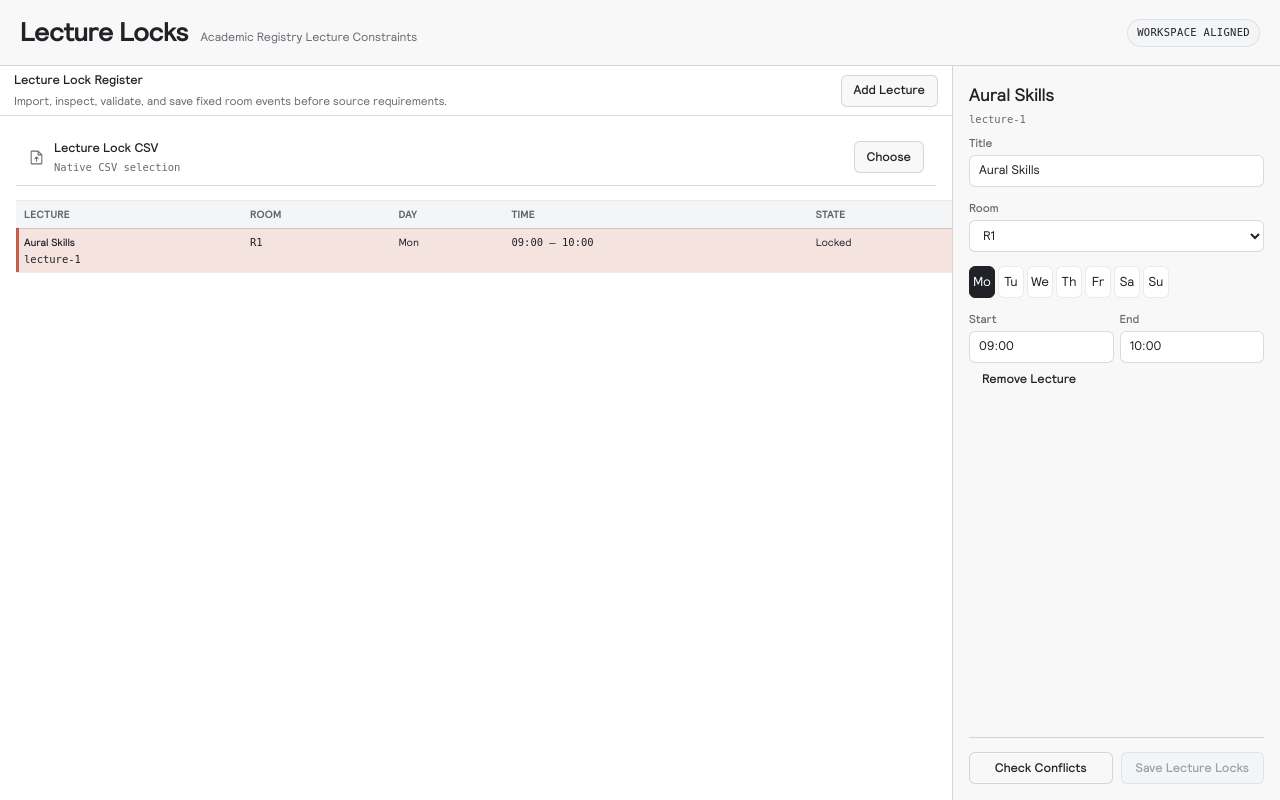
Test: LecturesPage › surfaces server conflict detail and keeps save unavailable
Type " II" into the field named "Lecture title lecture-1" at (1116, 171), box [969, 155, 1264, 187]
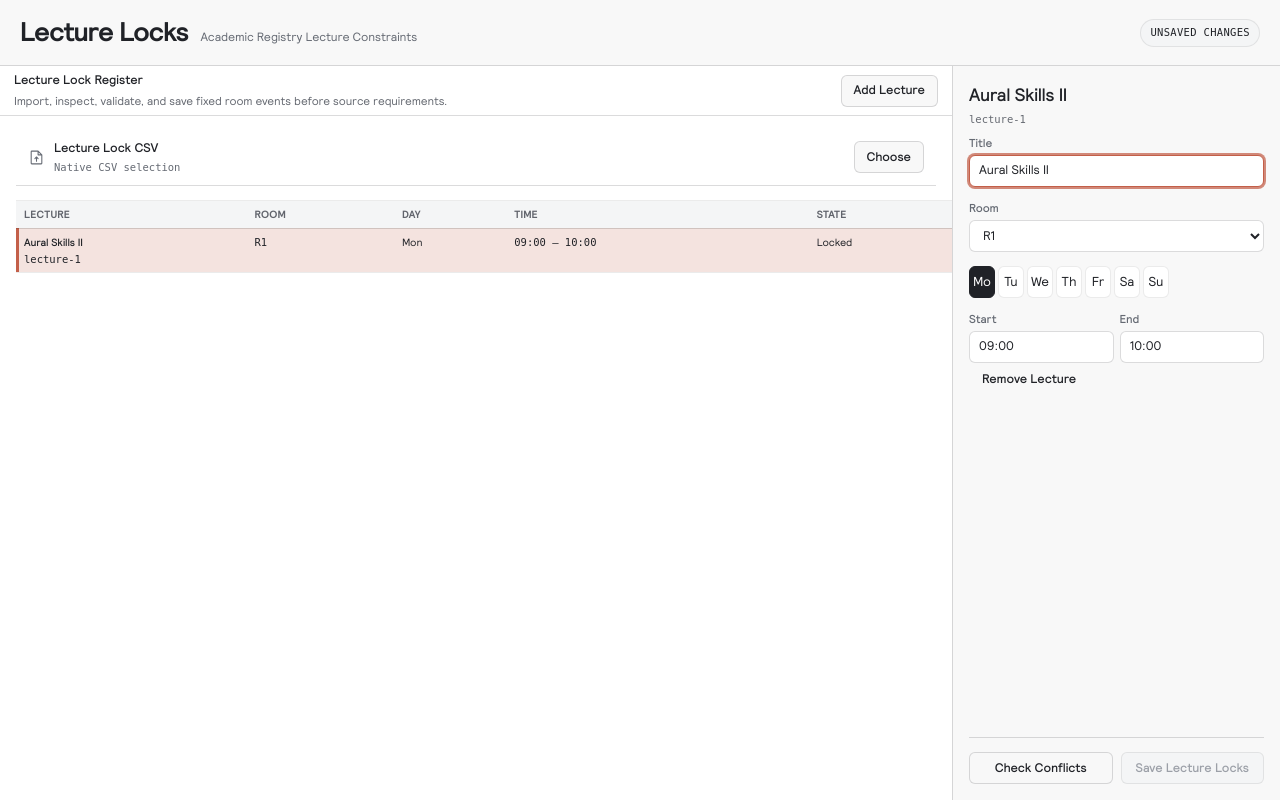
Click the button "Check Conflicts" at (1041, 768), box [969, 752, 1112, 784]
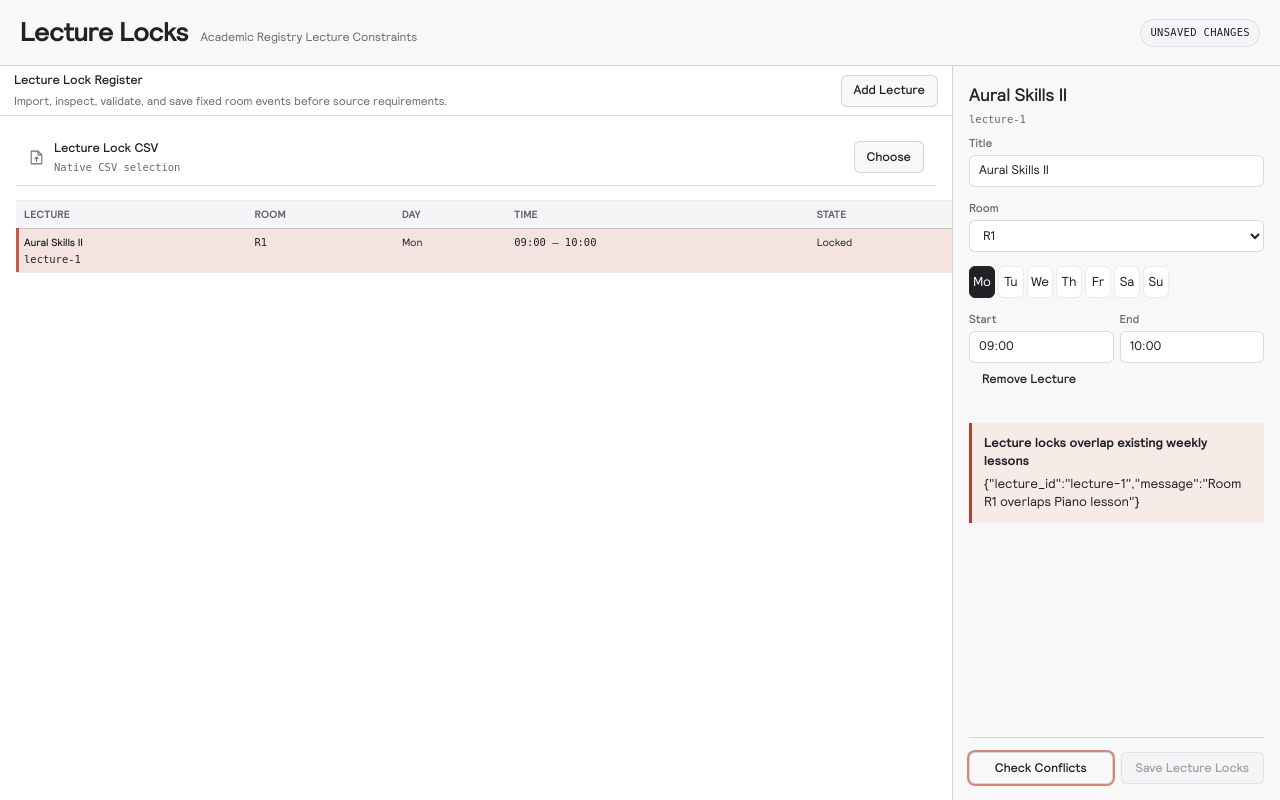
expect the button "Save Lecture Locks" is disabled: met, box [1120, 752, 1264, 784]
expect the message shows "Lecture locks overlap existing weekly lessons": met, box [984, 435, 1207, 468]
expect the message shows "Room R1 overlaps Piano lesson": met, box [984, 476, 1242, 509]
